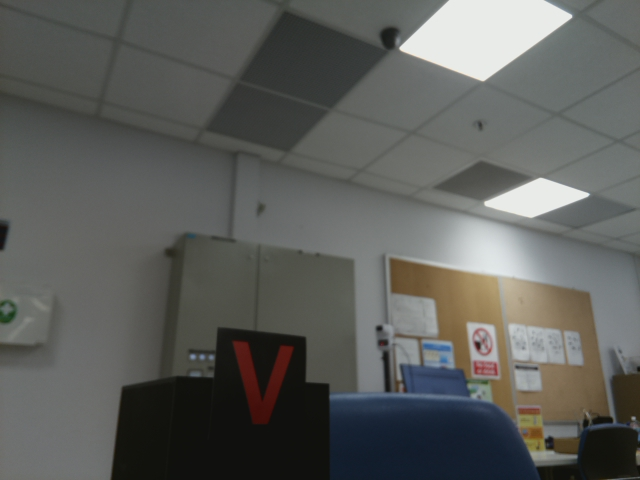v: (226, 341, 297, 433)
